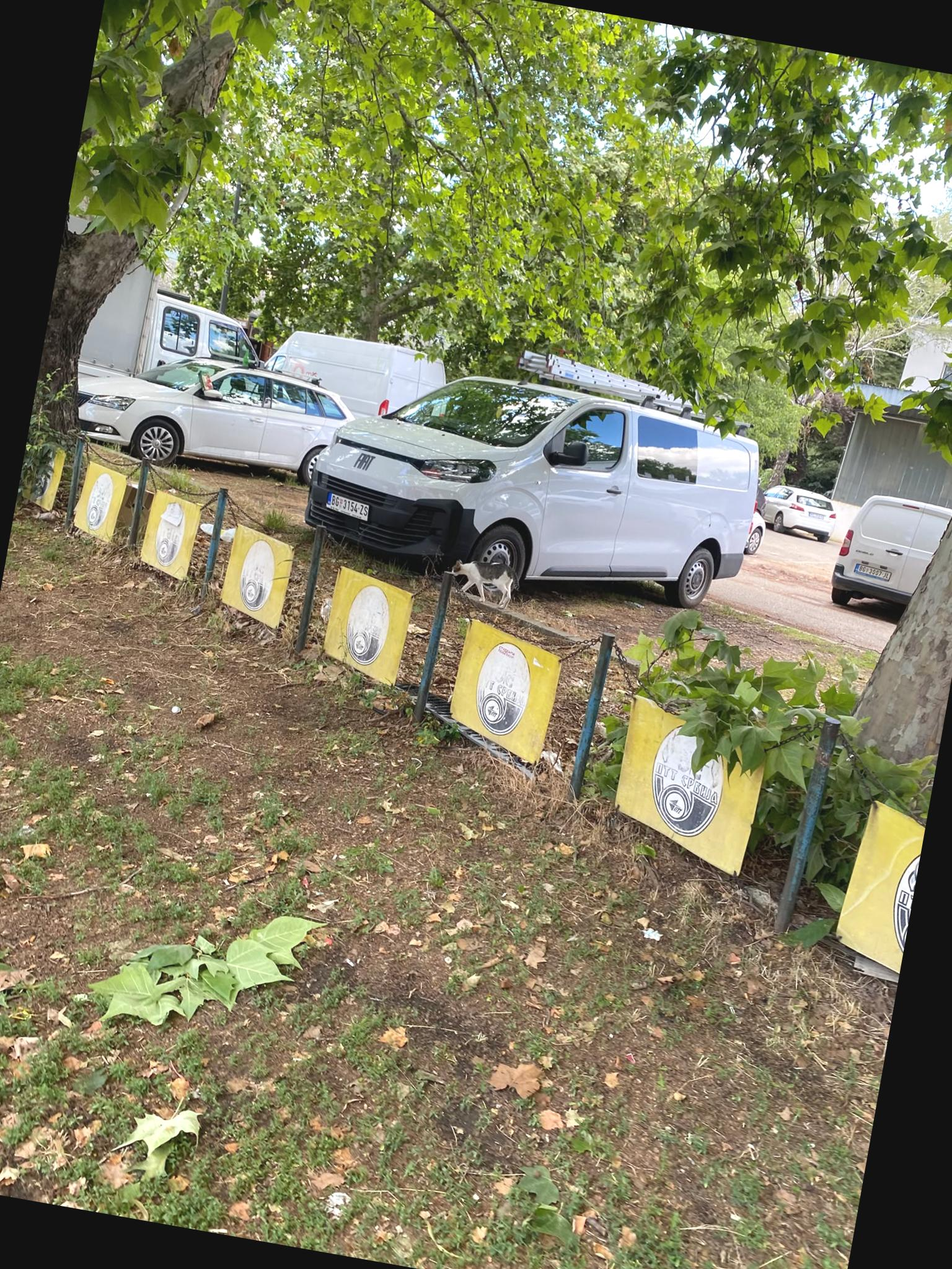macka: (447, 555, 526, 612)
